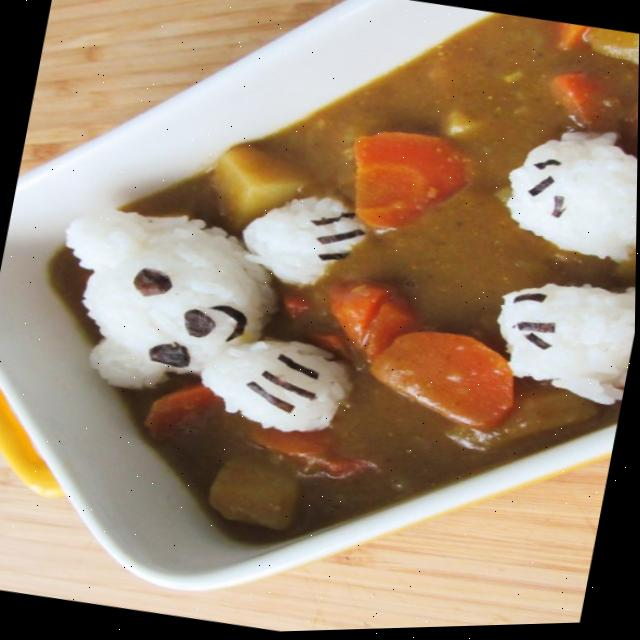Wet: (0, 0, 640, 606)
